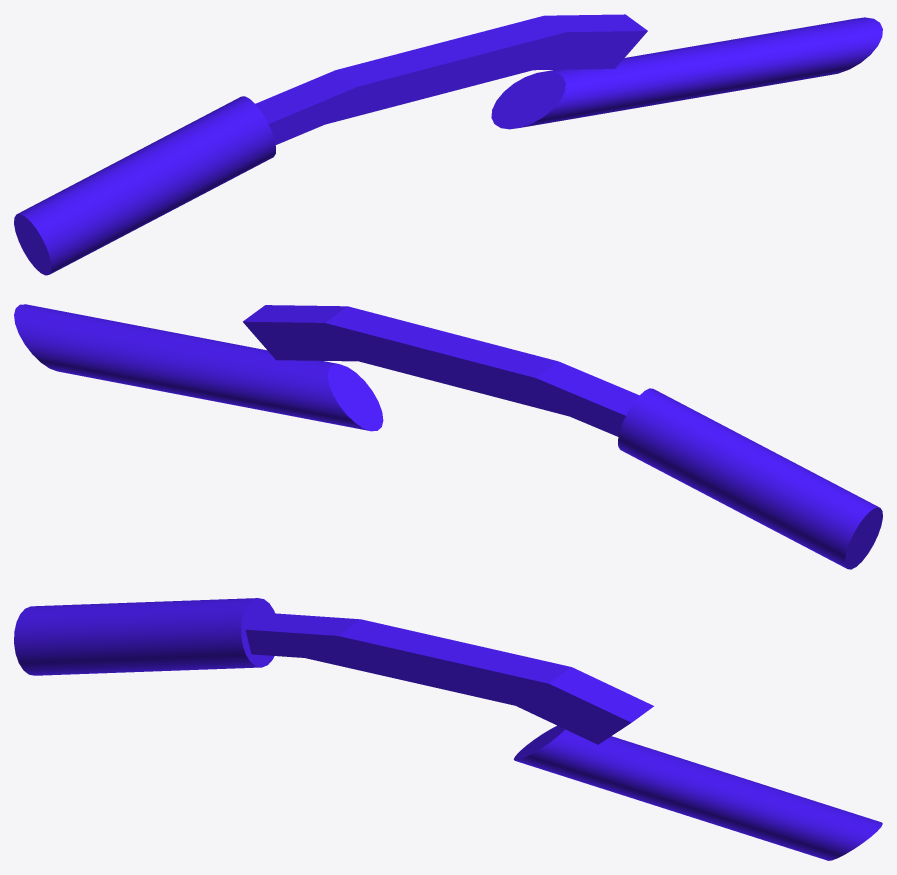
File: shouldermachine_02.FBX
3 views of the same model, one above another, from view 1: azimuth 30°, elevation 25°; view 2: azimuth 150°, elevation 25°; view 3: azimuth 330°, elevation 25° (orthographic).
Visible parts, largest first — view 1: Cylinder542; view 2: Cylinder542; view 3: Cylinder542.
Boxes of the visible parts, x1,y1,x2,y2 form: Cylinder542: (14,14,882,275); Cylinder542: (14,304,882,569); Cylinder542: (14,598,882,860).
Bounding box in the file's own units: 1.18 × 0.1648 × 0.0911.
